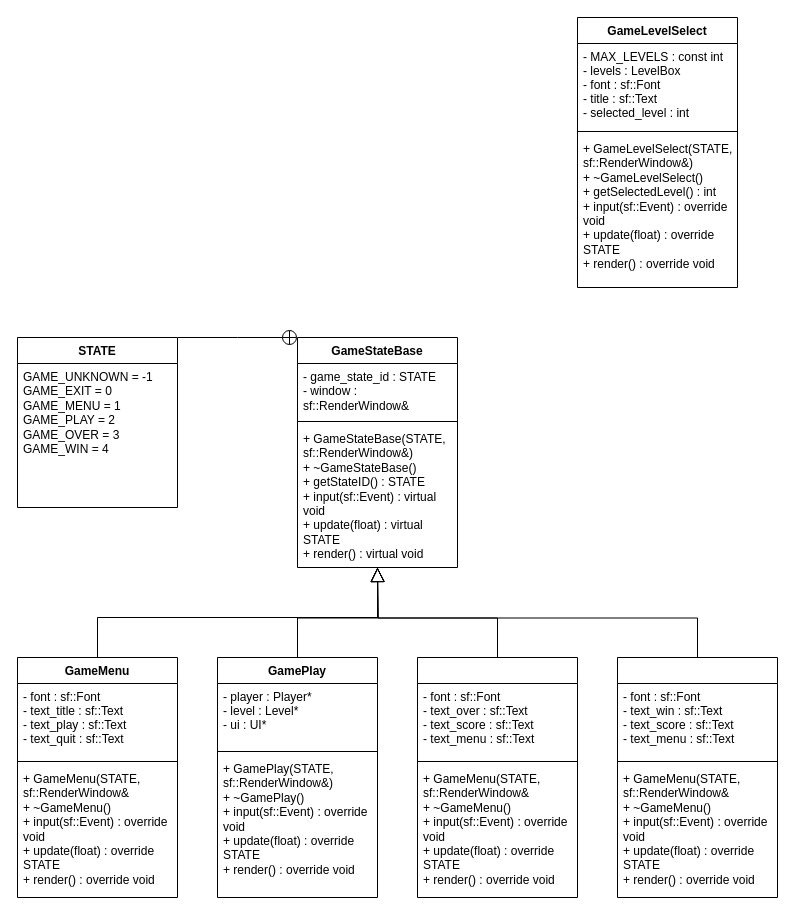
This 795x918 diagram has some shape labels left out. The box of each missing label's shape, as (x1, y1, x2, y2) in pixels:
GameOver: (416, 656, 578, 898)
GameWin: (616, 656, 778, 898)
